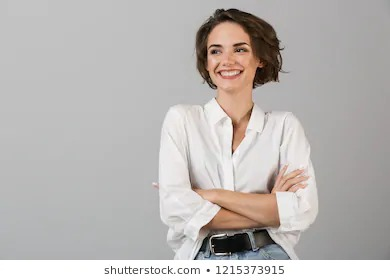F_belt: (196, 226, 272, 250)
S_blouse: (158, 104, 318, 253)
